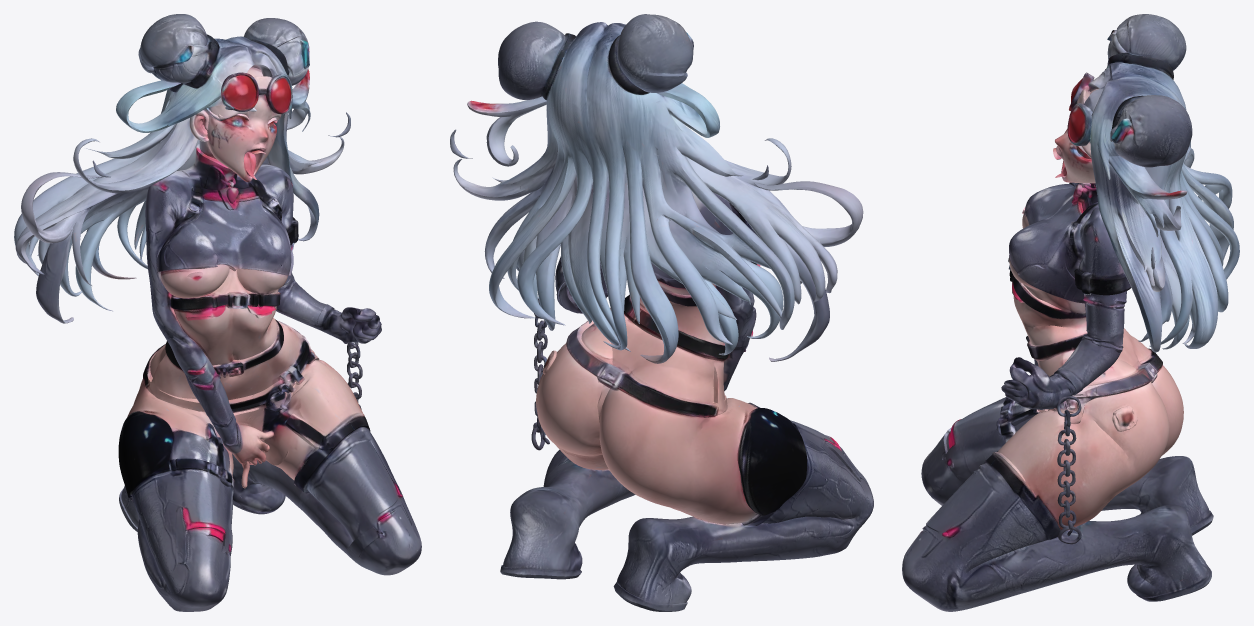
The model's file is 01a19d9d-3dfa-7651-8a14-ad91ed0cc603.glb.
3 renders of one model, left to right at view 1: azimuth 30°, elevation 25°; view 2: azimuth 150°, elevation 25°; view 3: azimuth 270°, elevation 25°, orthographic. The views are drawn at different scales.
Visible parts, largest first — view 1: model; view 2: model; view 3: model.
Part boxes in pixels (box(x1,y1,x2,y2)): model: box(14, 14, 421, 611); model: box(450, 14, 873, 611); model: box(902, 14, 1239, 611).
Bounding box in the file's own units: 1.33 × 1.89 × 1.08.
Materials: 1 (1 with a texture image).
